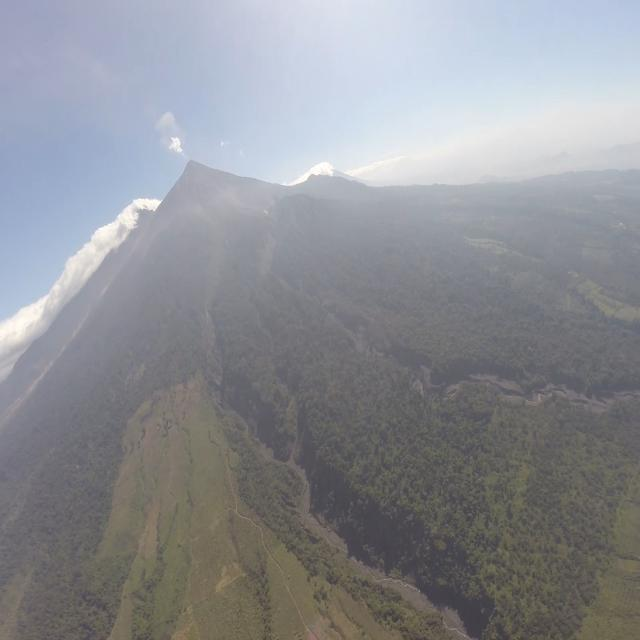Plume: (168, 134, 183, 156)
Summit: (178, 156, 208, 182)
